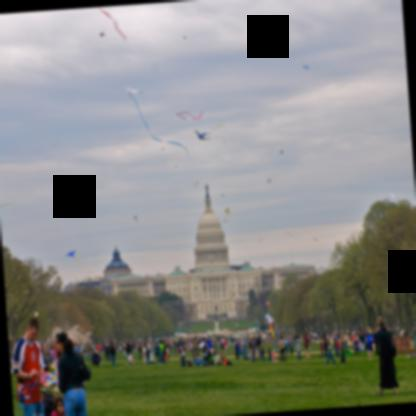handbag: (75, 351, 87, 382), (128, 355, 133, 362)
